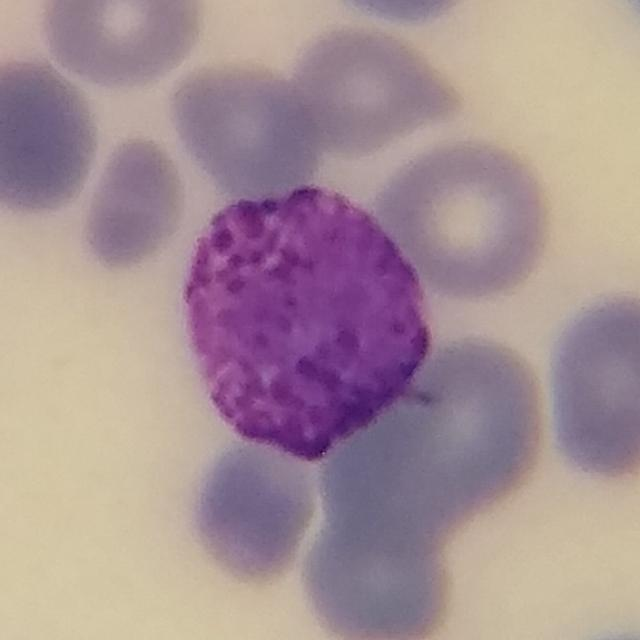baso: (175, 175, 457, 469)
